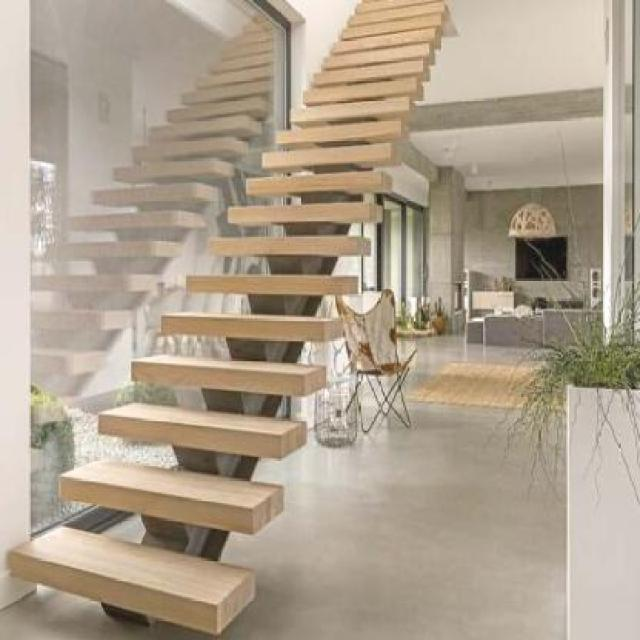stair: (6, 0, 466, 628)
